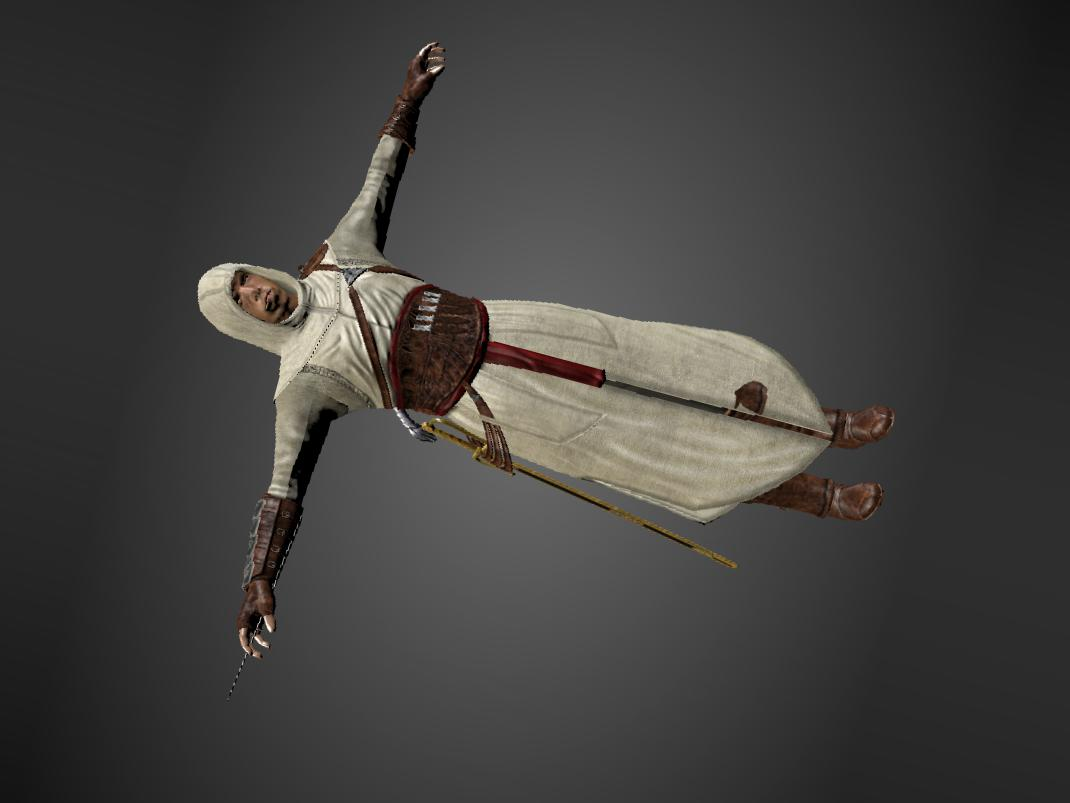clip: (729, 375, 781, 424)
